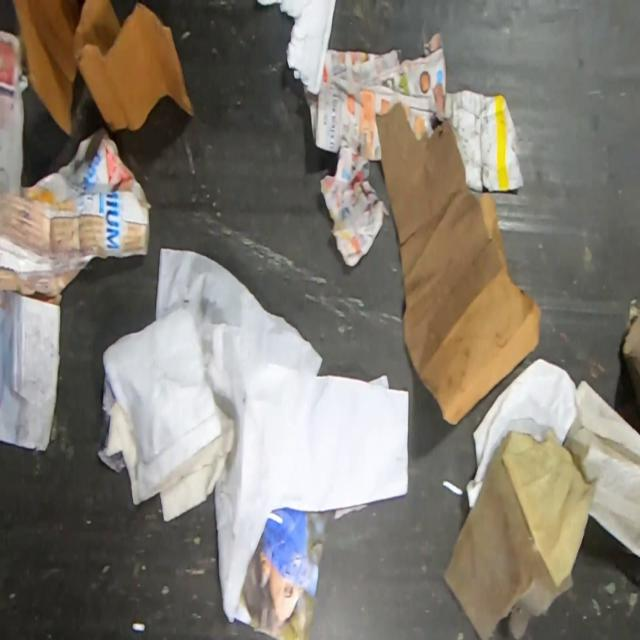cardboard: (375, 98, 542, 425), (0, 130, 153, 298), (10, 0, 196, 137), (622, 299, 640, 409)
